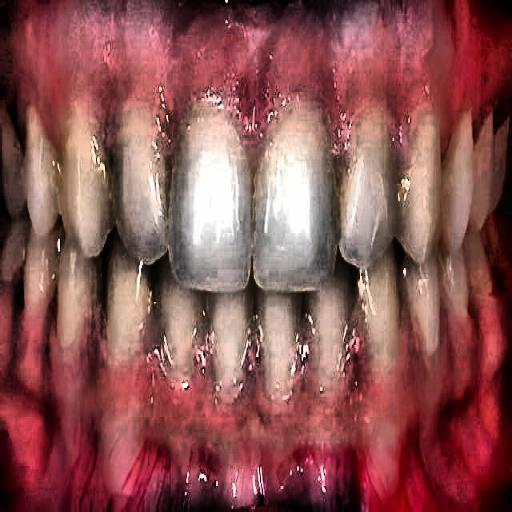Healthy: (69, 44, 504, 390)
